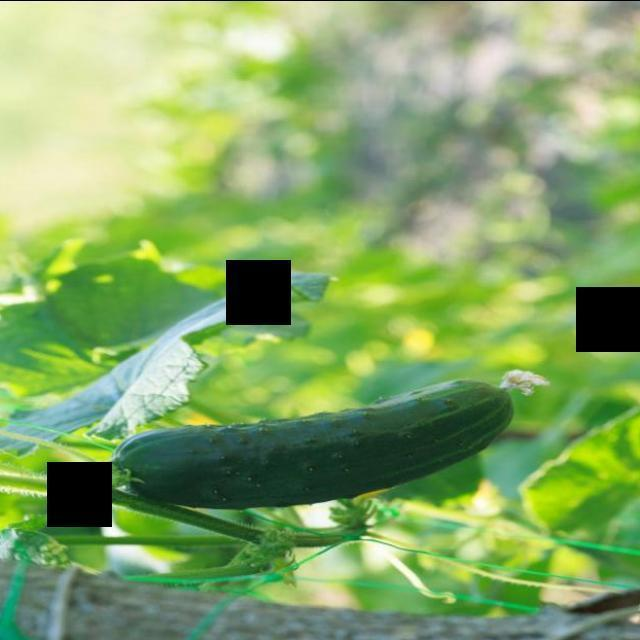cucumber: (112, 374, 518, 512)
